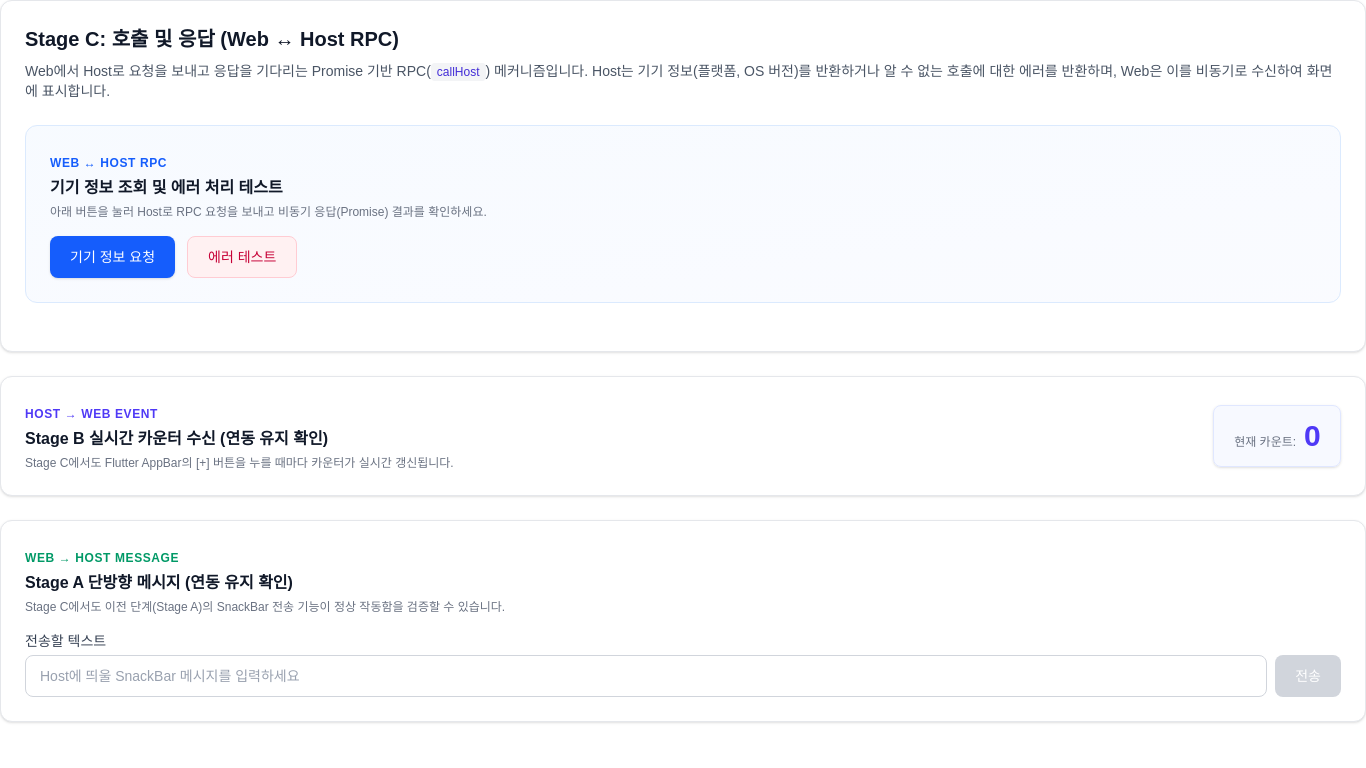
Test: StageCPage › Stage C 화면에서도 Stage A SnackBar 메시지 전송이 정상 작동한다
Type "Stage C에서 보낸 SnackBar" into the field labelled "전송할 텍스트" at (646, 676), box x1=25 y1=655 x2=1267 y2=697
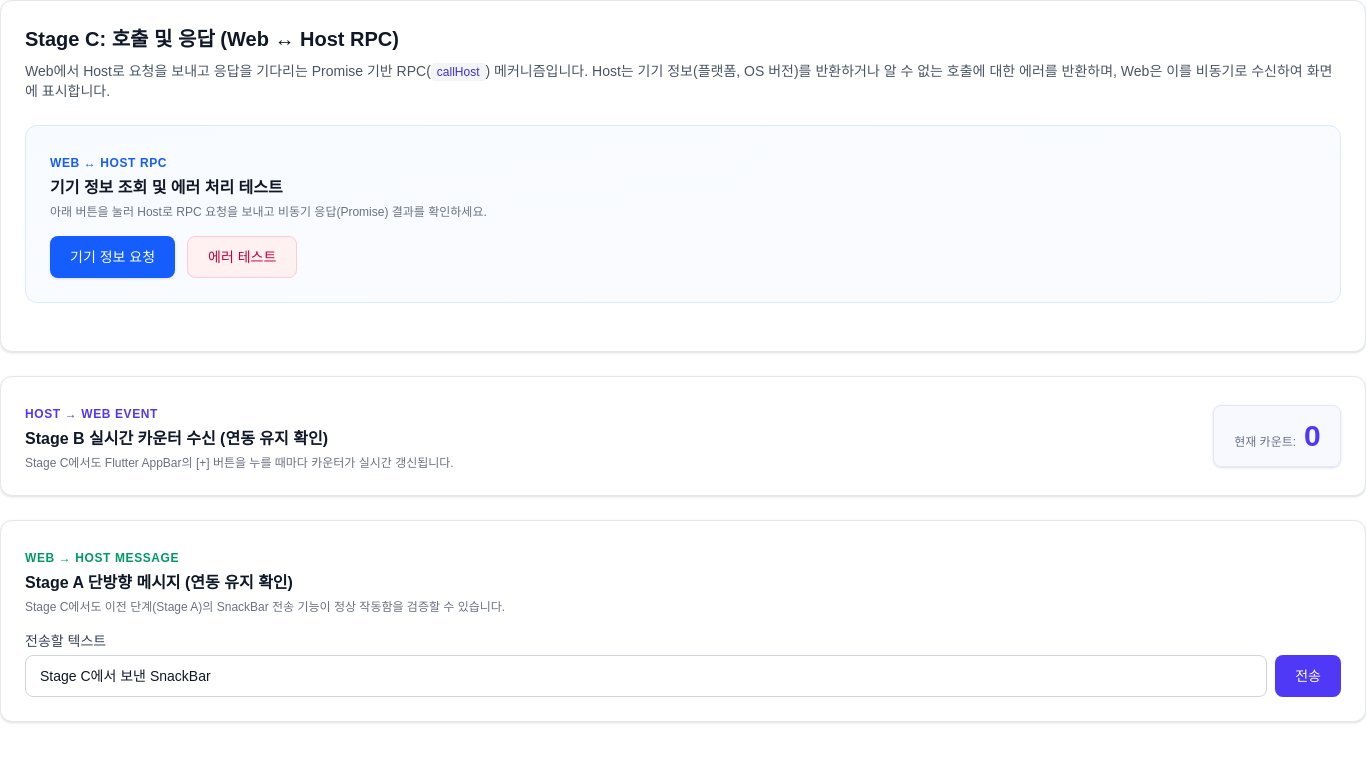
expect the button "전송" is enabled: met
Click the button "전송" at (1308, 676), box x1=1275 y1=655 x2=1341 y2=697
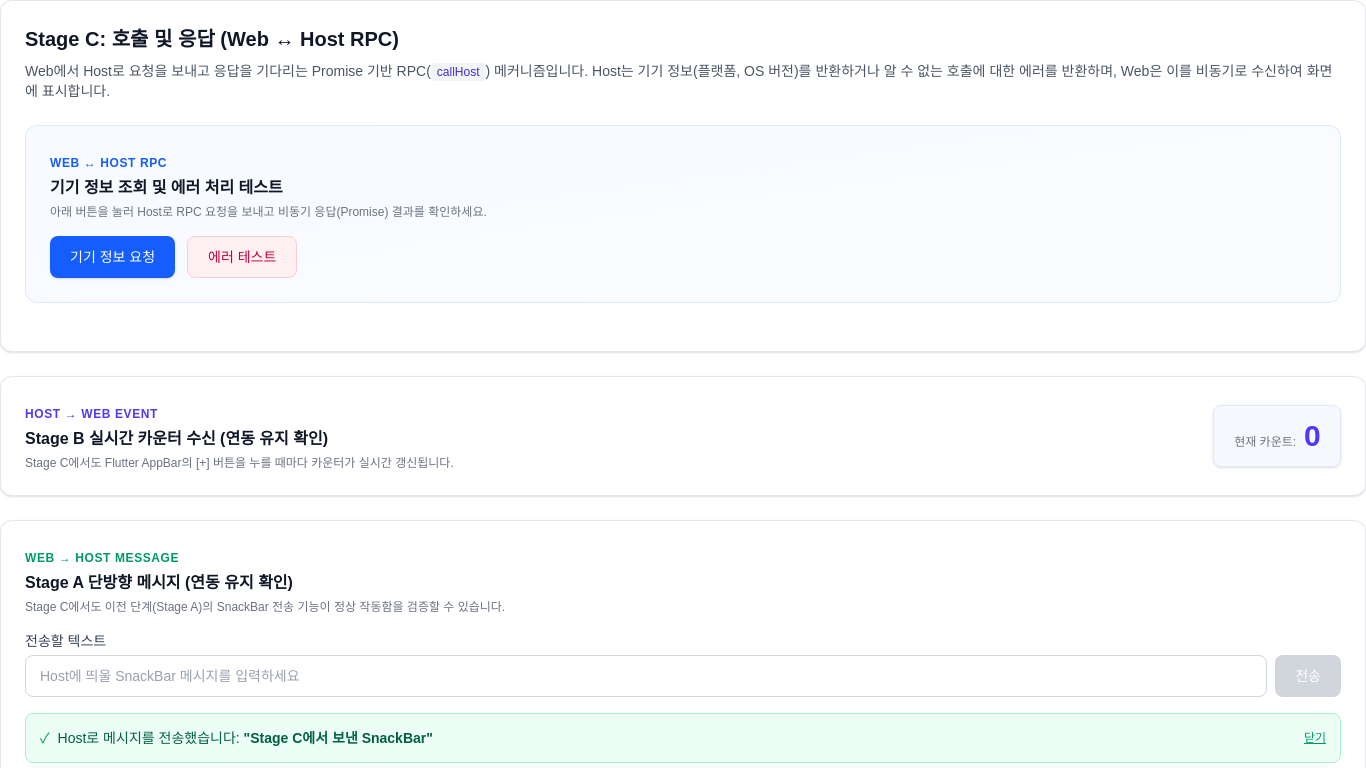
expect the field labelled "전송할 텍스트" is empty: met, box x1=25 y1=655 x2=1267 y2=697
expect the text "Host로 메시지를 전송했습니다: \"Stage C에서 보낸 SnackBar\"" is shown: met, box x1=58 y1=728 x2=433 y2=748
